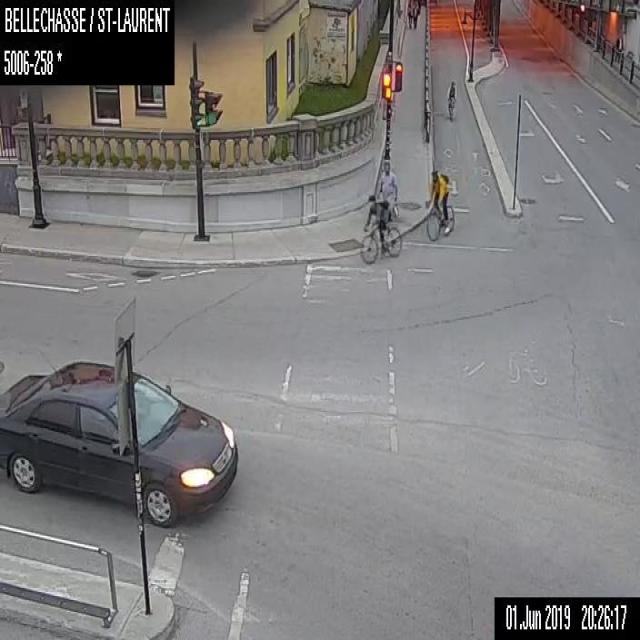cyclist: (359, 193, 401, 264), (424, 170, 454, 242), (446, 80, 457, 120)
pedestrian: (378, 160, 397, 203), (615, 32, 622, 61), (406, 4, 412, 28), (412, 4, 417, 28)
vehicle: (0, 360, 237, 527)
